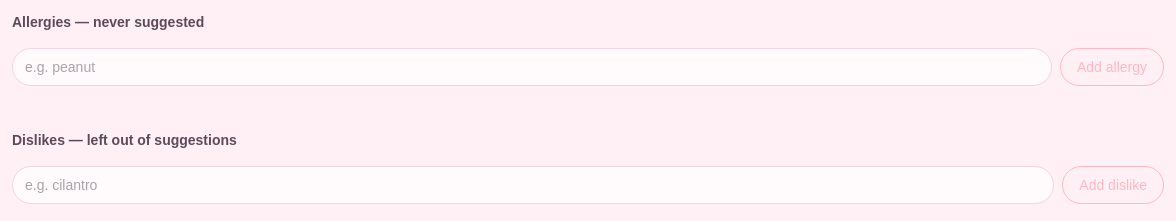
CookingExclusions (#500) › tells a guest without a profile row to create an account, and keeps nothing
Type "peanut" into the dropdown named "Add an allergy" at x=532, y=67, box [12, 48, 1052, 86]
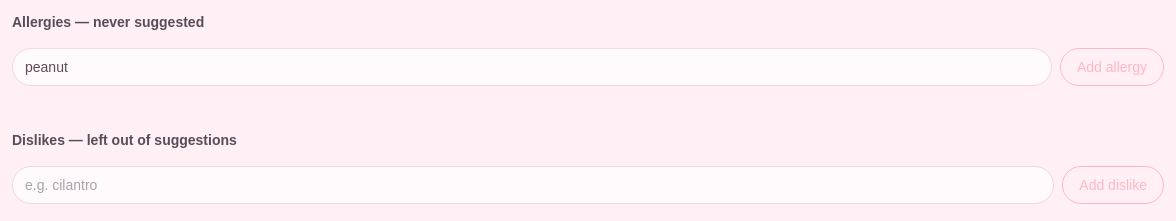
Submit the form named "Add an allergy", box [12, 48, 1164, 86]
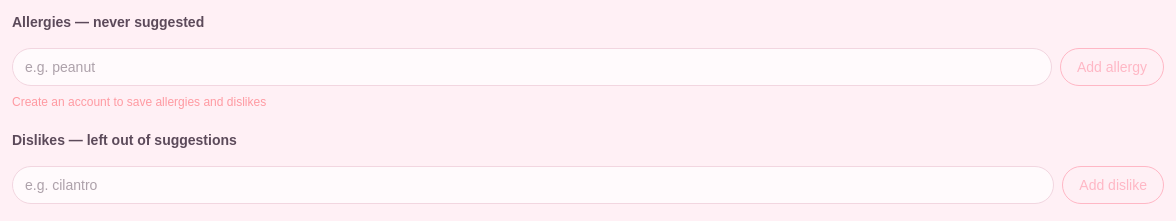
expect the text "Create an account to save allergies and dislikes" is shown: met, box [12, 95, 266, 109]
